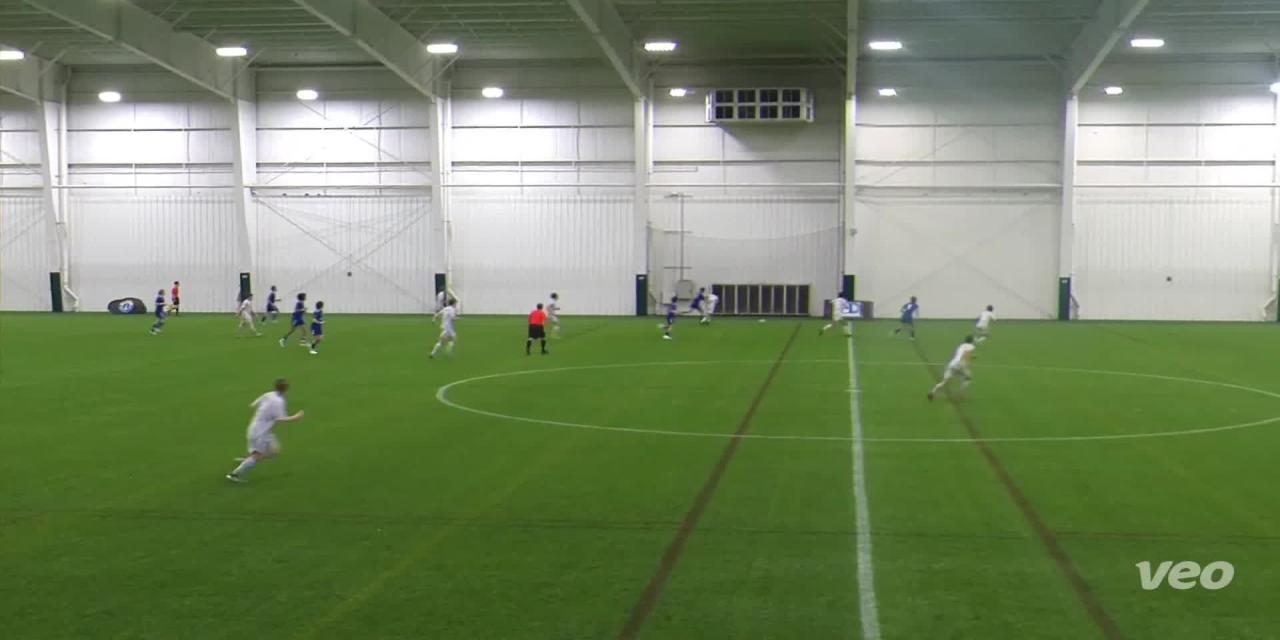sports ball: (756, 314, 769, 326)
